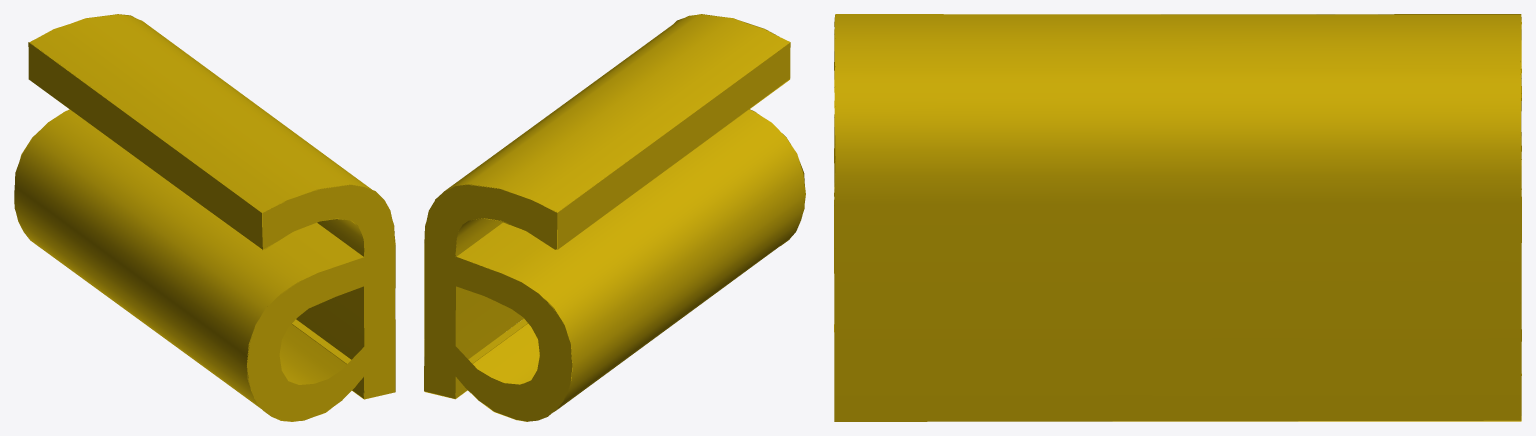
Rendered from original-4.obj.
3 views of the same model, side by side, from view 1: azimuth 30°, elevation 25°; view 2: azimuth 150°, elevation 25°; view 3: azimuth 270°, elevation 25° (orthographic). The views are drawn at different scales.
Visible parts, largest first — view 1: #ID25; view 2: #ID25; view 3: #ID25.
Part boxes in pixels (left/top/right/bottom): #ID25: left=14, top=14, right=395, bottom=421; #ID25: left=424, top=14, right=805, bottom=421; #ID25: left=834, top=14, right=1521, bottom=421.
Size of the model in its own units: 0.0285 by 0.0416 by 0.0774.
